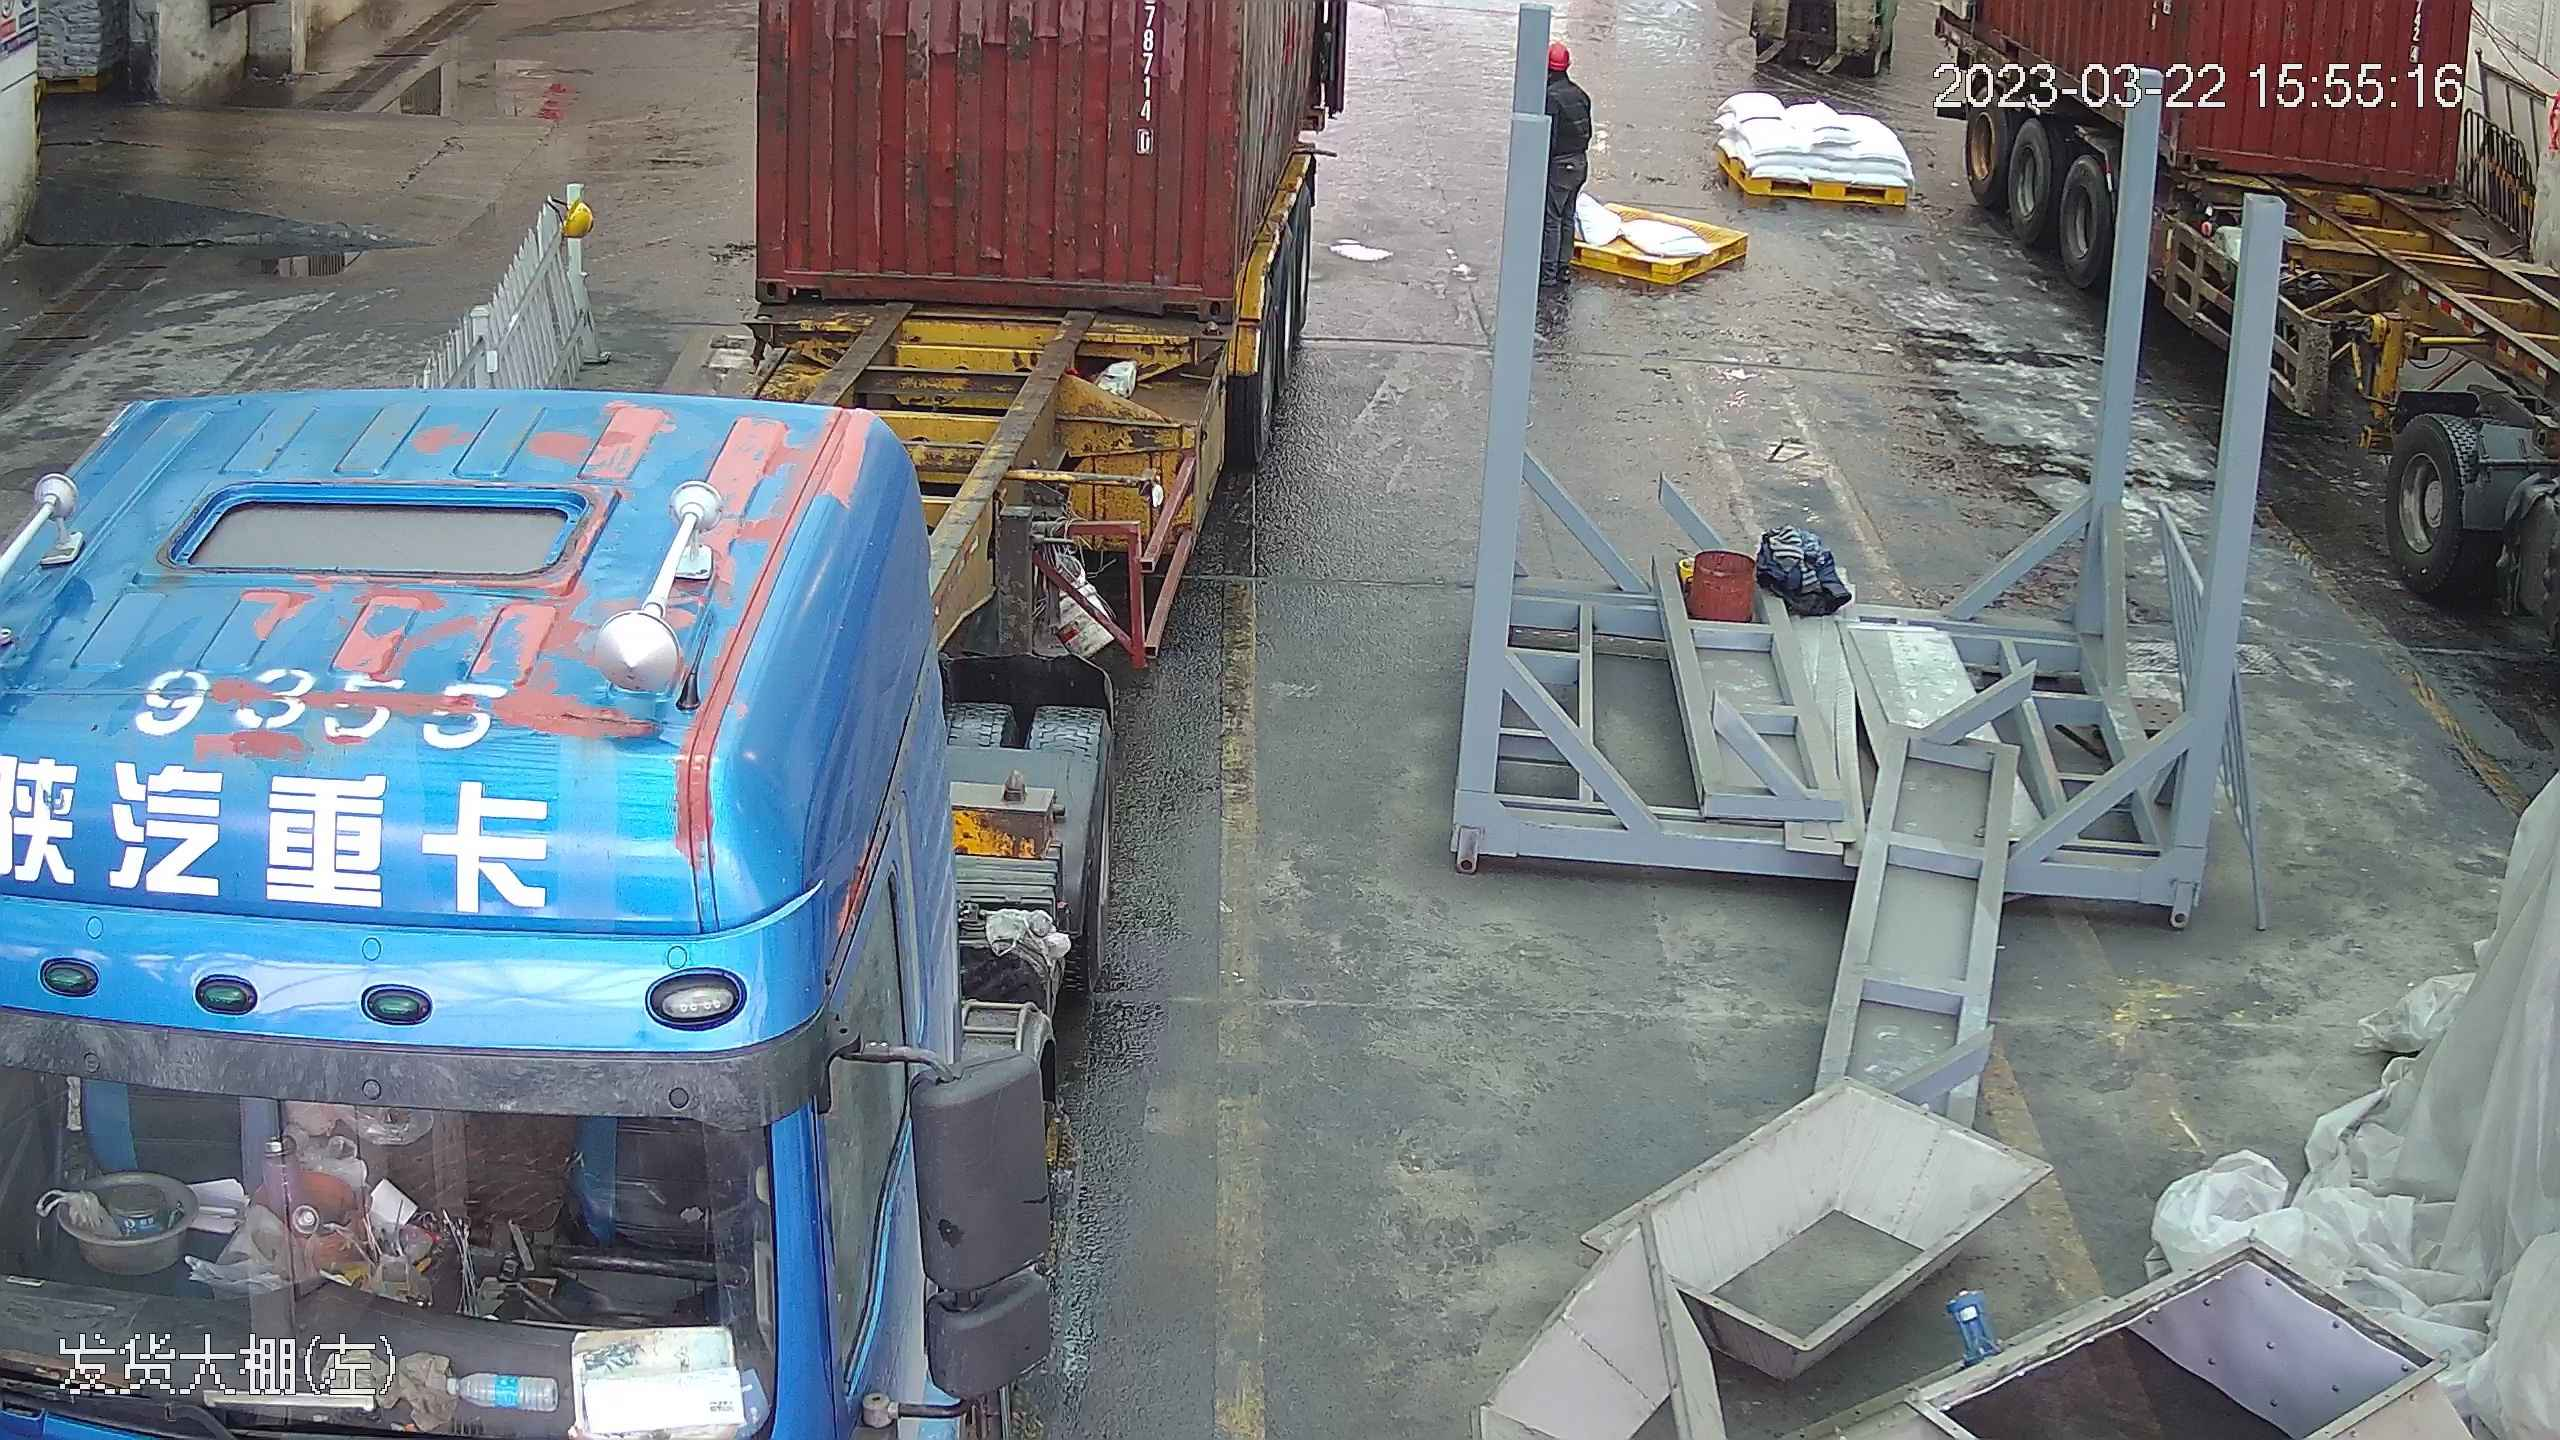head: (1543, 34, 1590, 112)
helmet: (559, 197, 593, 233), (1546, 35, 1574, 64)
people: (1537, 32, 1594, 293)
truck: (1, 1, 1340, 1435)
